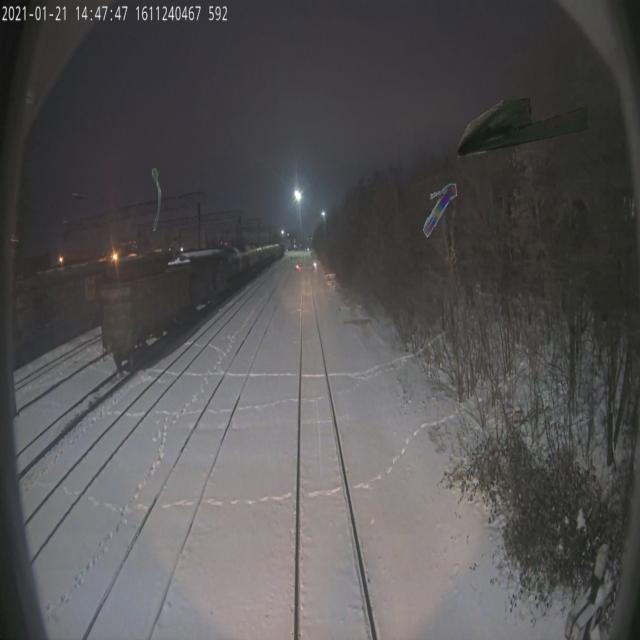floating object: (458, 94, 588, 158), (422, 180, 457, 243), (152, 167, 161, 231)
